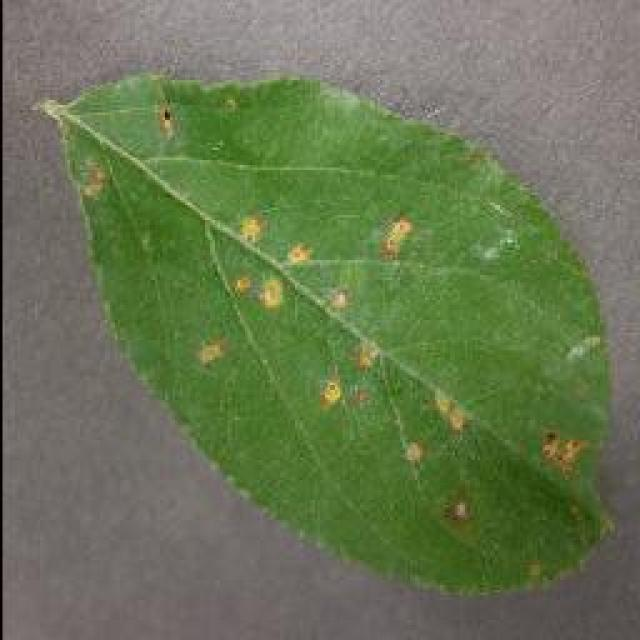apple cedar apple rust: (35, 68, 617, 598)
